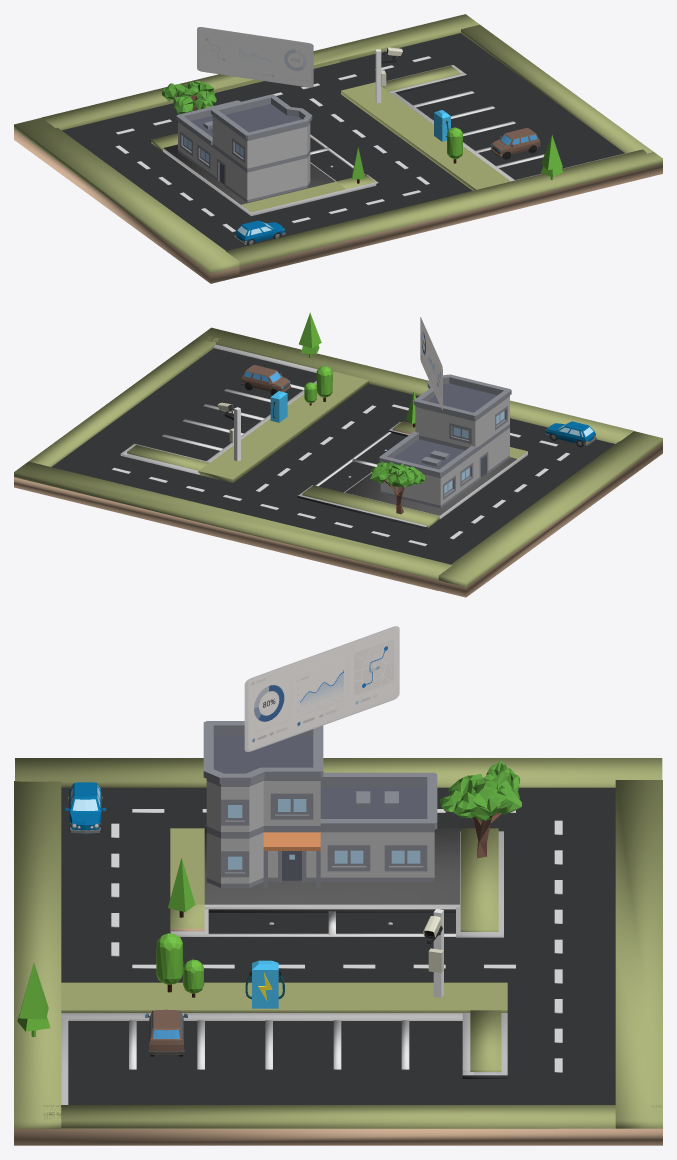
File: papp-city-draft.glb
3 renders of one model, top to bottom at view 1: azimuth 30°, elevation 25°; view 2: azimuth 150°, elevation 25°; view 3: azimuth 270°, elevation 25°, orthographic. The views are drawn at different scales.
Visible parts, largest first — view 1: parking, small_buildingE, PappInsights, tree, trees, Car, PappCamera selectable, Vanbody, PappCamera, cahrger.001; view 2: parking, small_buildingE, trees, tree, PappInsights, PappCamera selectable, Car, Vanbody, PappCamera, roadlines4, cahrger.001; view 3: parking, small_buildingE, PappInsights, tree, trees, PappCamera selectable, Car, cahrger.001, PappCamera, Vanbody, roadlines4, parkinglines.003 (+2 smaller).
Boxes of the visible parts, x1,y1,x2,y2 form: parking: (14,14,662,283); small_buildingE: (176,94,312,202); PappInsights: (197,27,313,87); tree: (162,81,216,114); trees: (447,127,562,179); Car: (234,220,285,245); PappCamera selectable: (341,82,401,110); Vanbody: (491,127,540,156); PappCamera: (375,47,402,102); cahrger.001: (434,110,450,141); parking: (14,327,662,597); small_buildingE: (379,374,511,508); trees: (299,312,332,405); tree: (370,461,424,514); PappInsights: (420,317,442,409); PappCamera selectable: (199,451,259,479); Car: (545,421,596,447); Vanbody: (241,365,290,391); PappCamera: (217,402,240,461); roadlines4: (111,467,427,546); cahrger.001: (270,391,287,422); parking: (14,758,662,1145); small_buildingE: (203,721,437,887); PappInsights: (244,626,399,751); tree: (439,760,521,858); trees: (17,933,204,1036); PappCamera selectable: (418,982,507,1010); Car: (64,782,106,833); cahrger.001: (245,960,284,1008); PappCamera: (423,909,443,997); Vanbody: (145,1009,187,1054); roadlines4: (554,820,562,1072); parkinglines.003: (208,933,455,936).
Bounding box in the file's own units: 5.46 × 1.7 × 4.13.
Materials: 37 (2 with a texture image).
